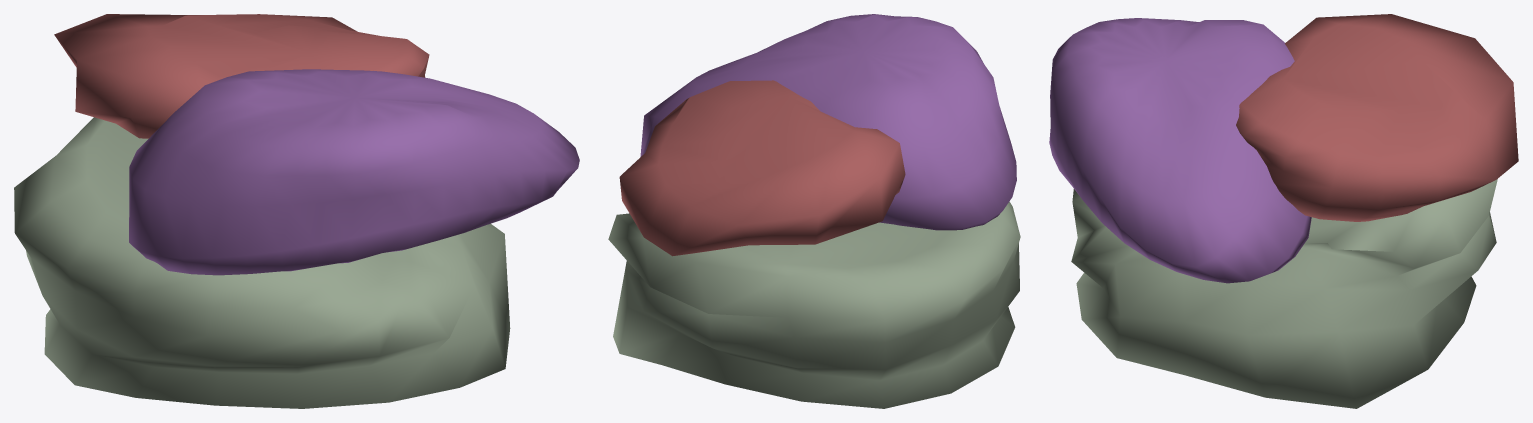
File: Clothes.fbx
3 renders of one model, left to right at view 1: azimuth 30°, elevation 25°; view 2: azimuth 150°, elevation 25°; view 3: azimuth 270°, elevation 25°, orthographic. The views are drawn at different scales.
Visible parts, largest first — view 1: Cloth.010, Cloth.011, Cloth.009; view 2: Cloth.010, Cloth.009, Cloth.011; view 3: Cloth.010, Cloth.011, Cloth.009.
Boxes of the visible parts, x1,y1,x2,y2 form: Cloth.010: (14, 117, 510, 408); Cloth.011: (129, 69, 579, 275); Cloth.009: (54, 14, 429, 138); Cloth.010: (608, 201, 1020, 408); Cloth.009: (619, 80, 905, 256); Cloth.011: (640, 14, 1016, 230); Cloth.010: (1071, 179, 1497, 408); Cloth.011: (1049, 18, 1311, 283); Cloth.009: (1236, 14, 1518, 221).
Bounding box in the file's own units: 37.66 × 24.35 × 37.34.
